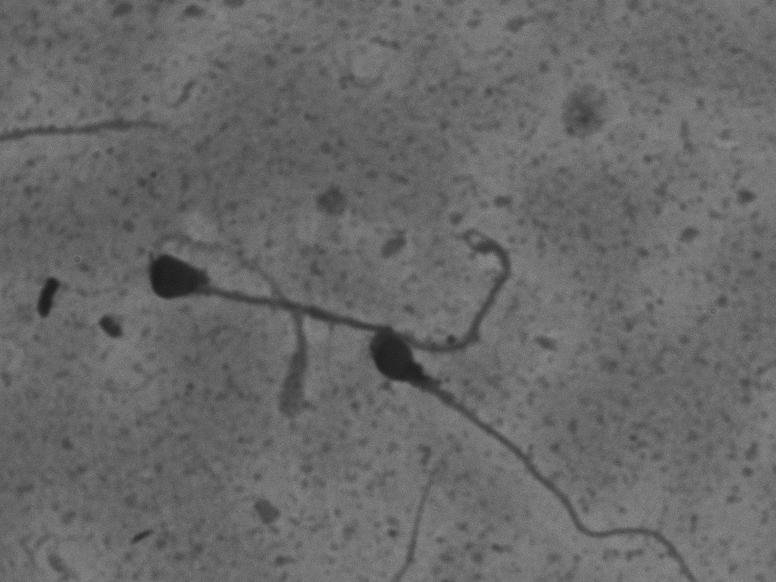Abnormal: (379, 337, 701, 579), (137, 218, 520, 363)
